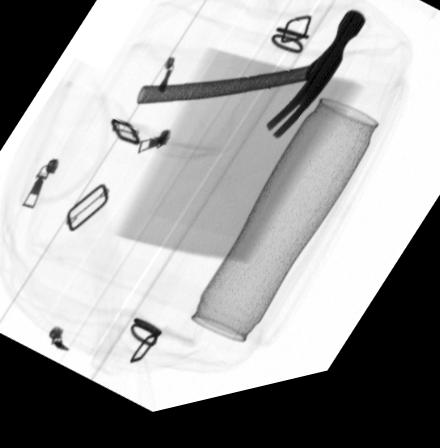Hammer: (136, 25, 367, 153)
